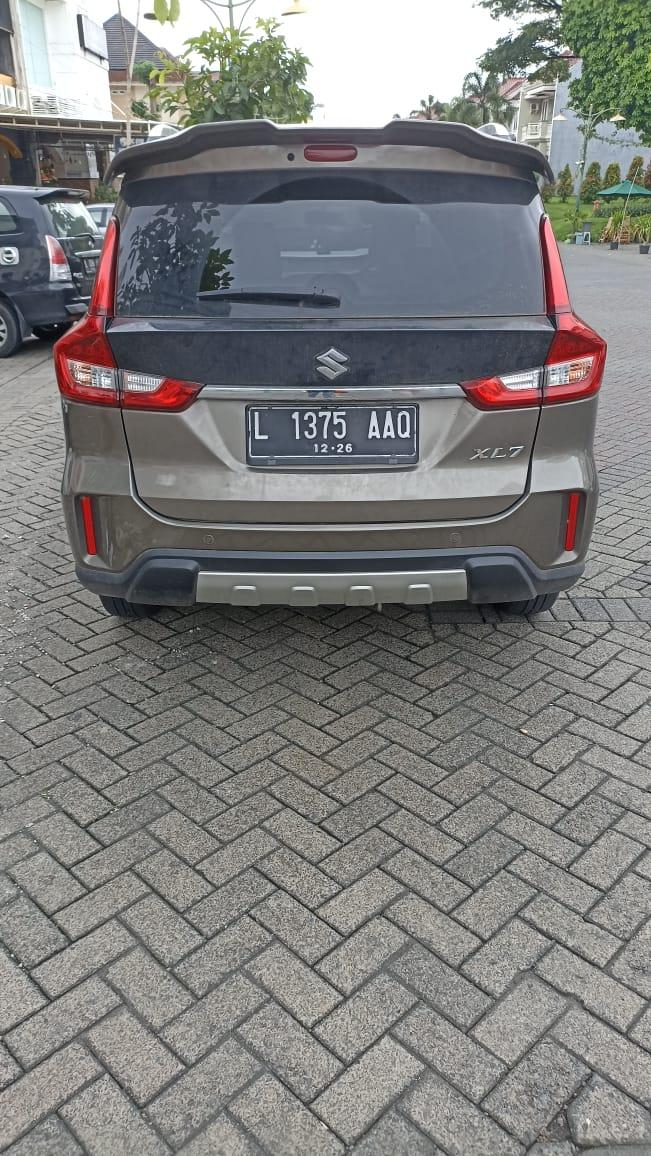plat: (246, 404, 418, 465)
